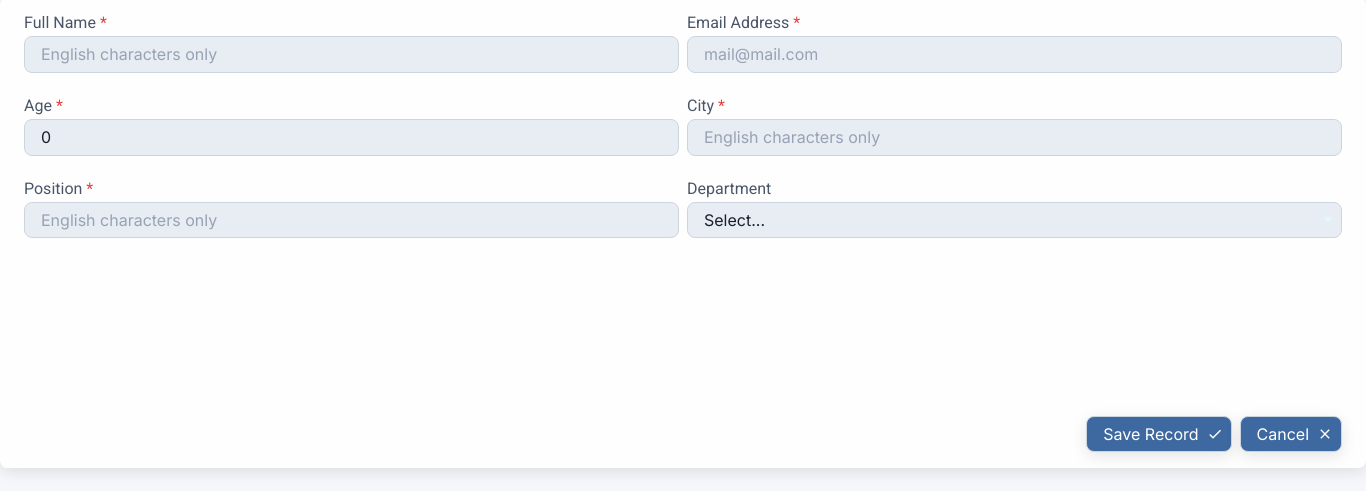
Test: RecordForm — валидация › показывает ошибки валидации при пустых или некорректных полях
The image size is (1366, 491).
Click the button "Save Record": point(1159, 434) [1086,416,1232,452]
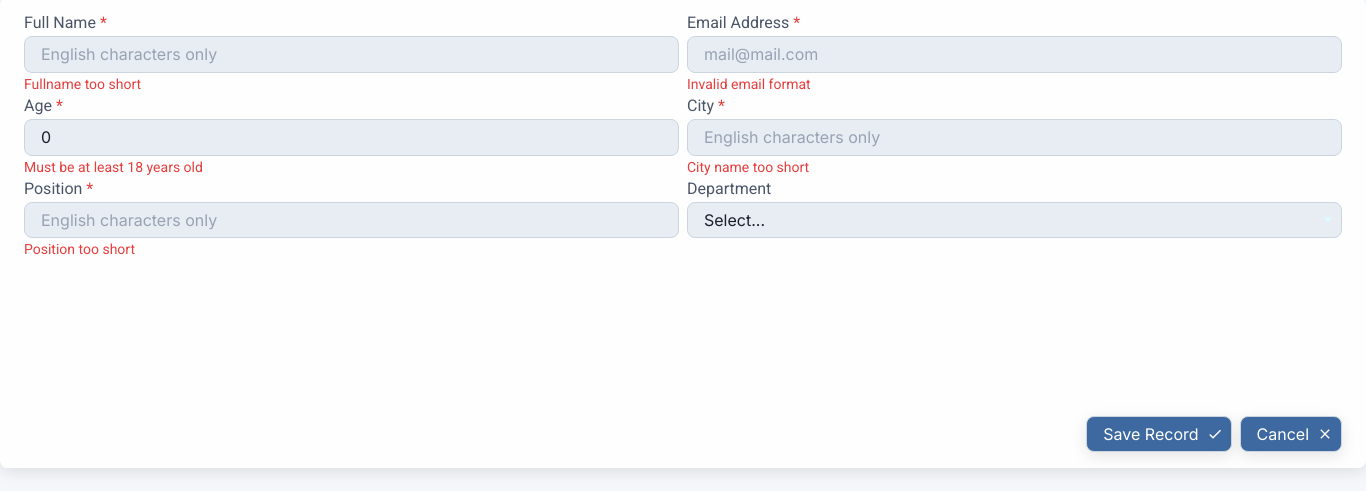
Expected: the text "Fullname too short" is shown, [24,76,141,92]
Expected: the text "Invalid email format" is shown, [687,76,811,92]
Expected: the text "Must be at least 18 years old" is shown, [24,159,203,175]
